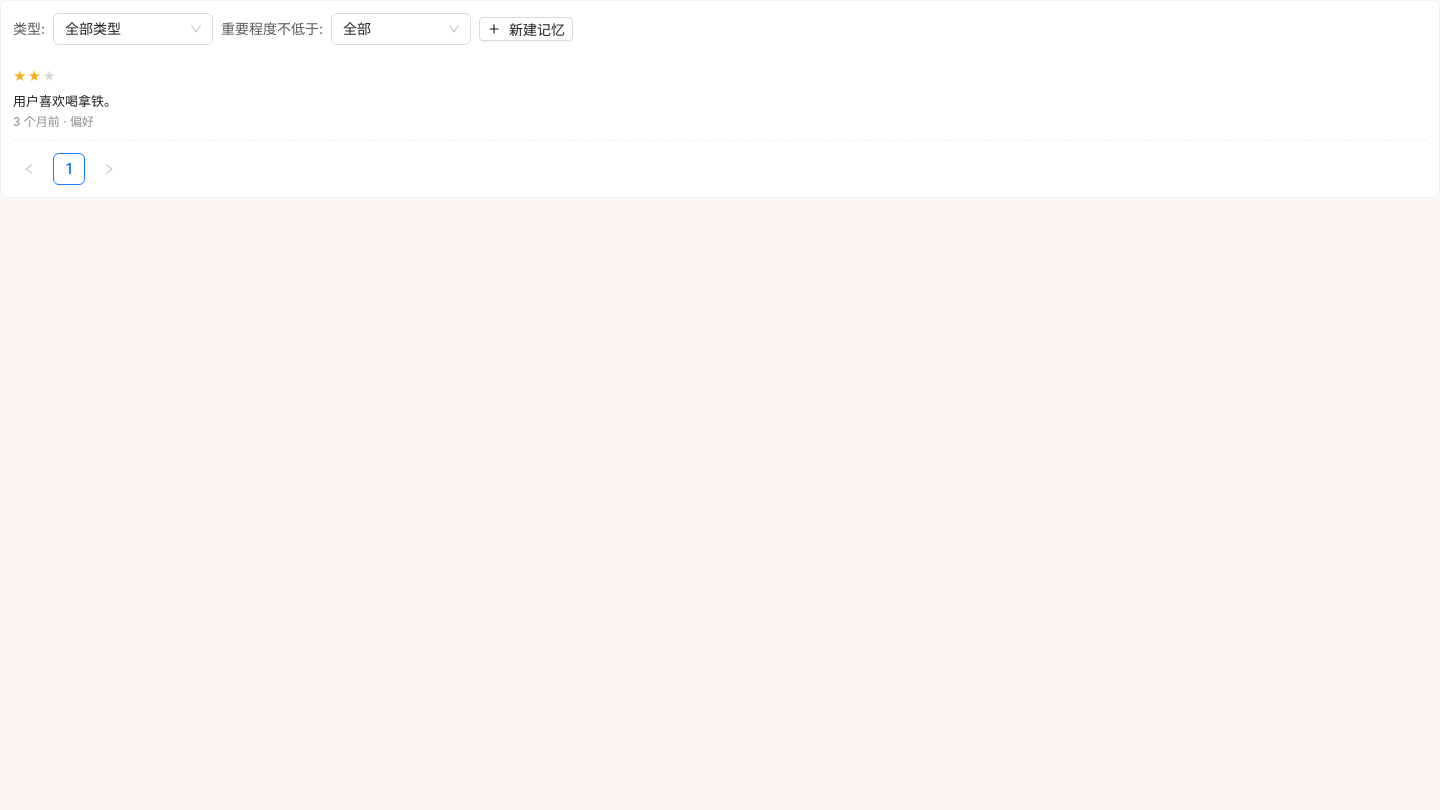
Test case: <AtomsList /> › shows the audit record instead of presenting old evidence as the corrected assertion
Click the text "用户喜欢喝拿铁。" at {"x": 65, "y": 101}, box 13,93 -> 117,109
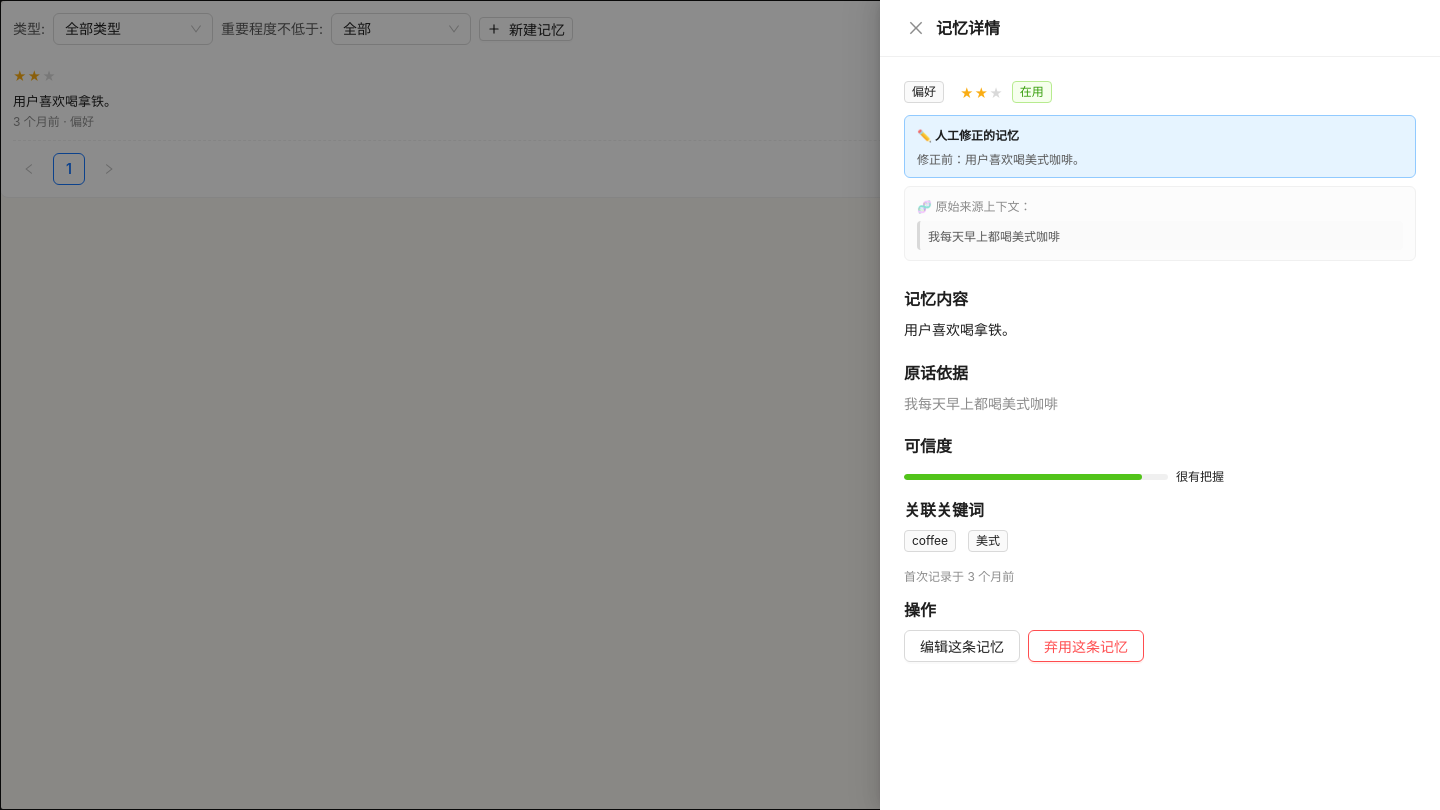
Expected: the text "✏️ 人工修正的记忆" is shown, 917,128 -> 1019,143
Expected: the text "修正前：用户喜欢喝美式咖啡。" is shown, 917,152 -> 1085,167
Expected: the text "🧬 原始来源上下文：" is shown, 917,199 -> 1031,214
